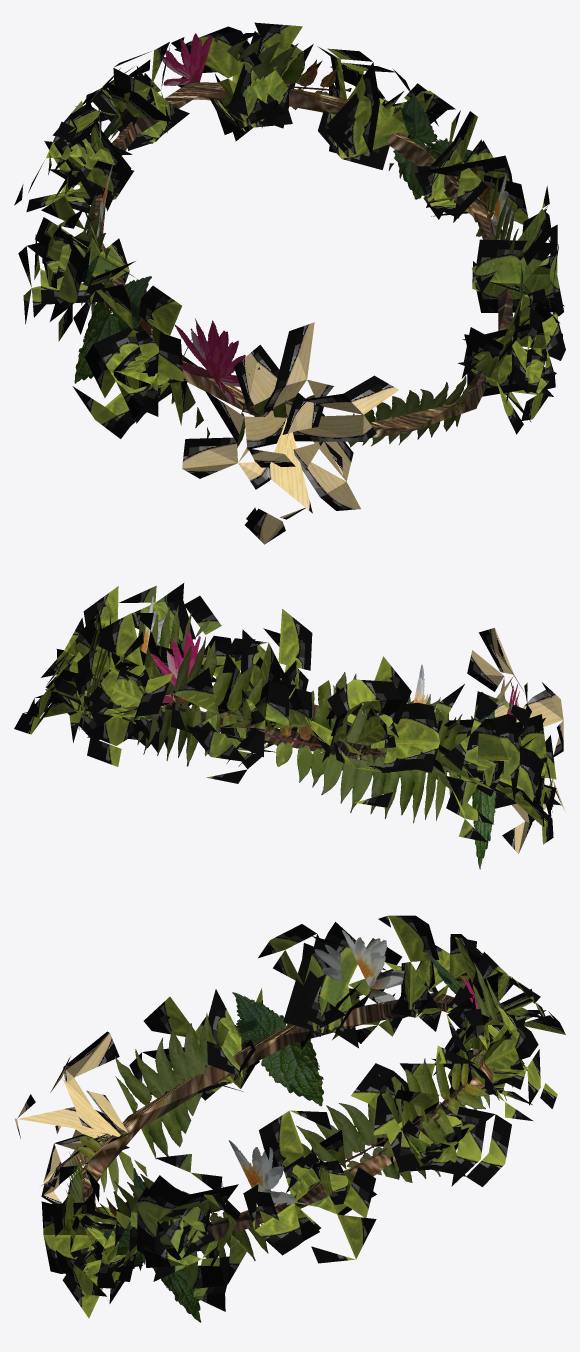
The model's file is KOZA_WIANEK_GREEN.glb.
3 renders of one model, top to bottom at view 1: azimuth 30°, elevation 25°; view 2: azimuth 150°, elevation 25°; view 3: azimuth 270°, elevation 25°, orthographic. The views are drawn at different scales.
Parts seen in each view (by area): view 1: KOZA_WIANEK_GREEN; view 2: KOZA_WIANEK_GREEN; view 3: KOZA_WIANEK_GREEN.
Boxes of the visible parts, x1,y1,x2,y2 form: KOZA_WIANEK_GREEN: [14, 22, 565, 544]; KOZA_WIANEK_GREEN: [14, 583, 564, 869]; KOZA_WIANEK_GREEN: [14, 915, 565, 1322].
Bounding box in the file's own units: 0.259 × 0.1756 × 0.2632.
Materials: 6 (6 with a texture image).
